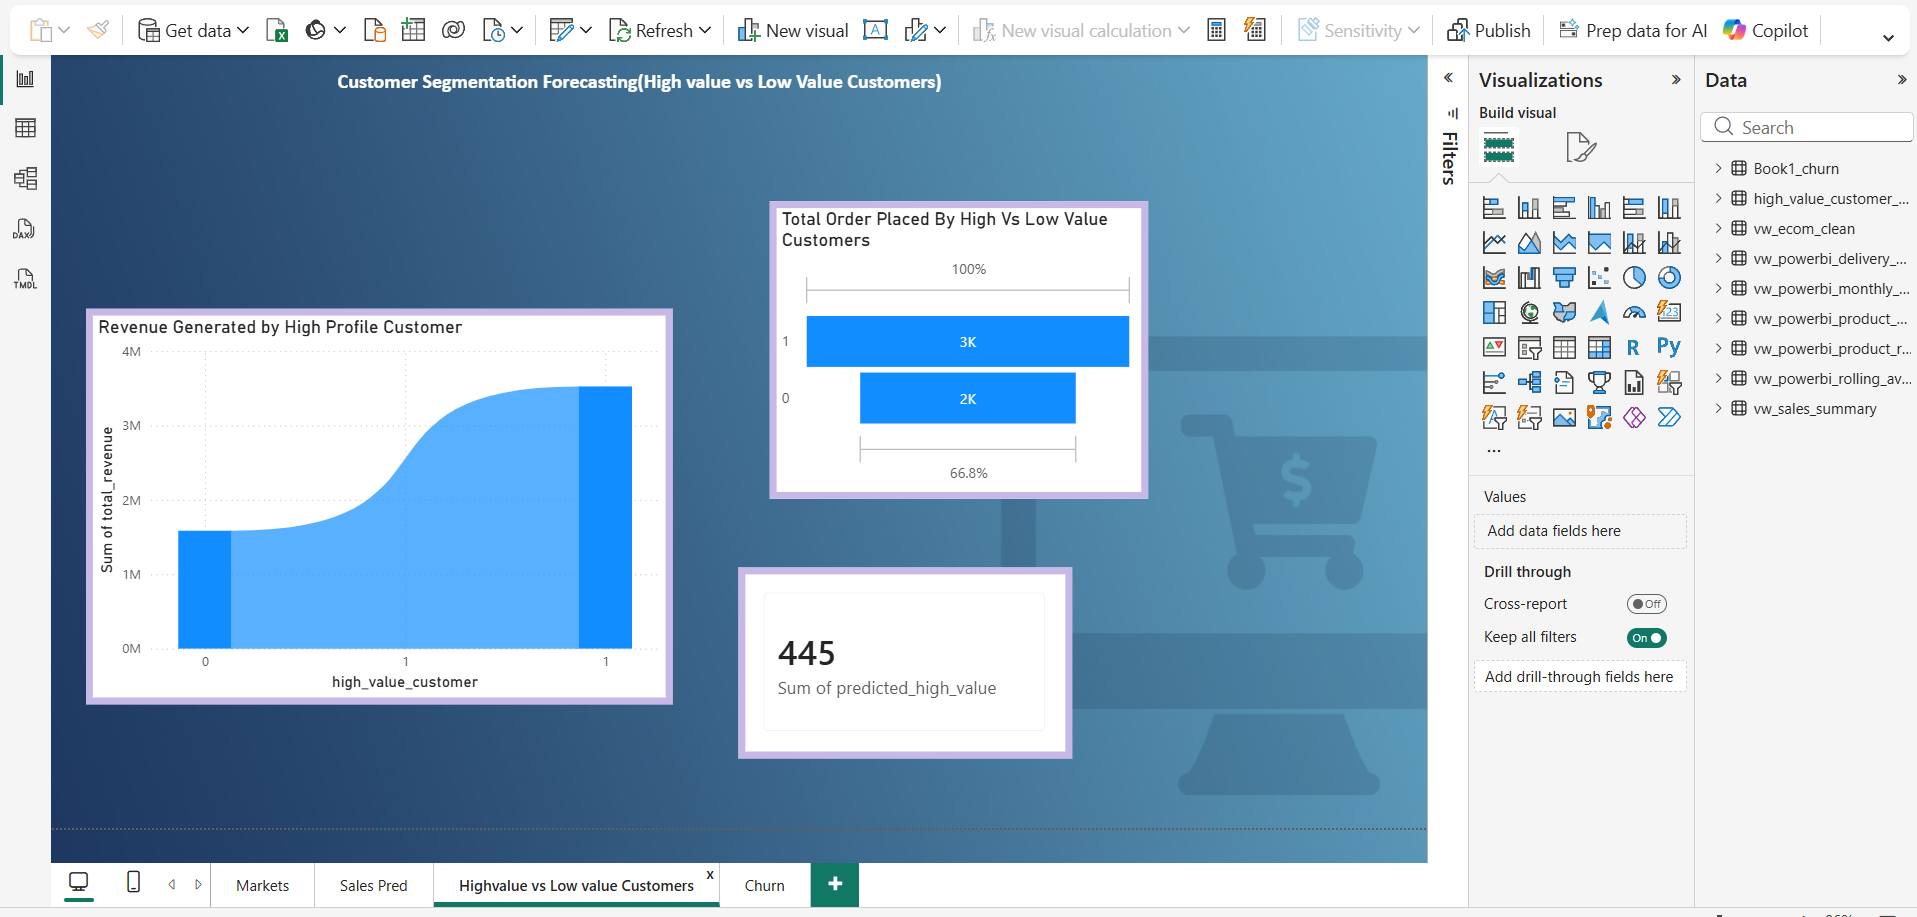

The page's visual inventory and layout, read from the dashboard file:
{"tool":"powerbi","page":{"name":"Highvalue vs Low value Customers","canvas":[1280,720],"ordinal":2},"visuals":[{"type":"cardVisual","fields":{"Data":["Sum(high_value_customer_prediction.predicted_high_value)"]},"box":[640,476.7,310,177.8],"z":0},{"type":"ribbonChart","title":"Revenue Generated by High Profile Customer","fields":{"Category":["high_value_customer_prediction.high_value_customer"],"Y":["Sum(high_value_customer_prediction.total_revenue)"]},"box":[32.2,235.6,545.6,367.8],"z":1000},{"type":"funnel","title":"Total Order Placed By High Vs Low Value Customers","fields":{"Category":["high_value_customer_prediction.predicted_high_value"],"Y":["Sum(high_value_customer_prediction.total_orders)"]},"box":[668.9,135.6,352.2,276.7],"z":2000},{"type":"textbox","box":[261.1,7.8,592.2,44.4],"z":3000}]}

Visuals, with their boxes on the page's 1280x720 design canvas (x1, y1, x2, y2). These are canvas units, not pixel positions in the 1917x917 screenshot, which may show the page scaled, cropped or inside an application window:
cardVisual - Sum(high_value_customer_prediction.predicted_high_value): 640/477/950/654
"Revenue Generated by High Profile Customer" ribbonChart: 32/236/578/603
"Total Order Placed By High Vs Low Value Customers" funnel: 669/136/1021/412
textbox: 261/8/853/52
